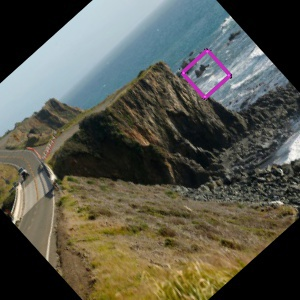square: (179, 47, 234, 101)
